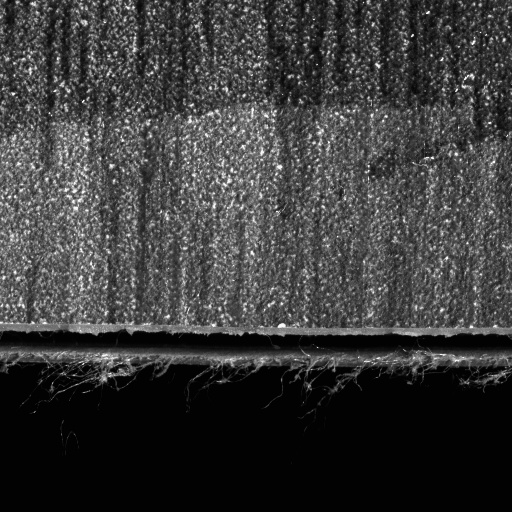kaijiao: (0, 316, 511, 375)
